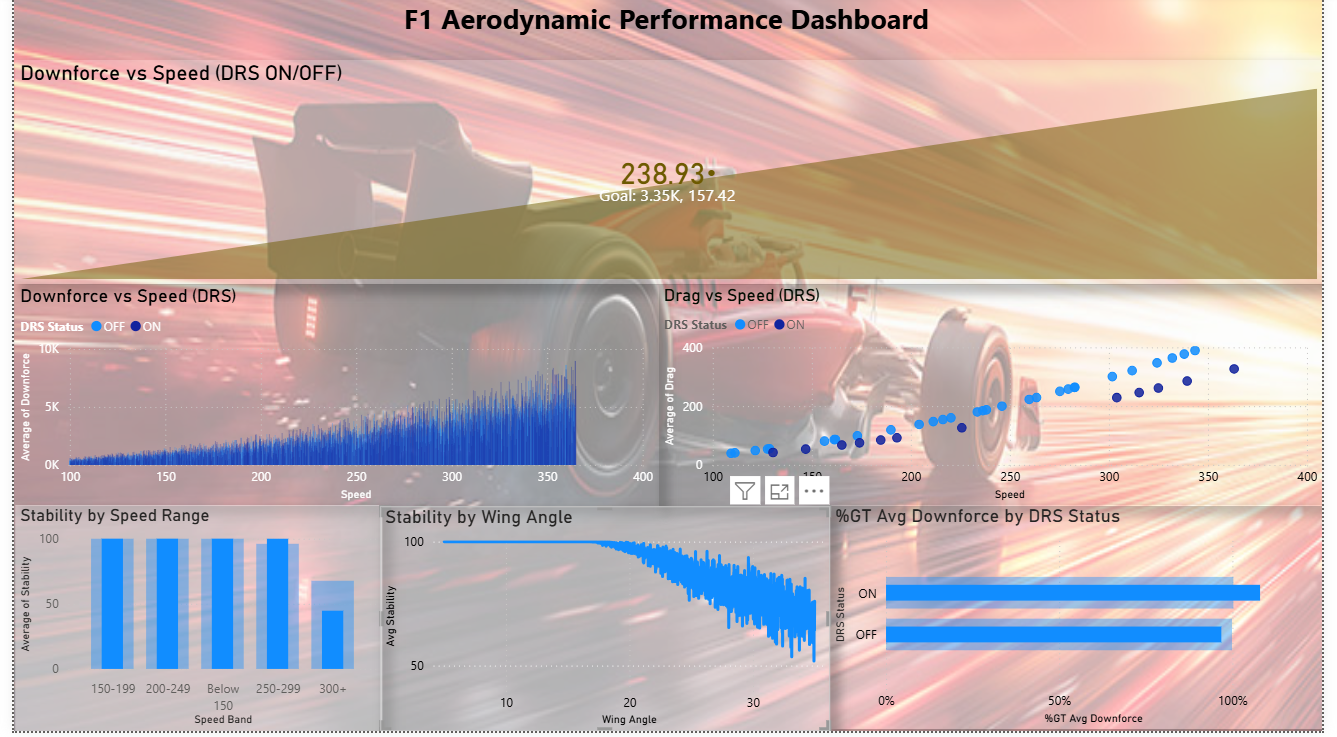

Layout of this report page (visuals, bound fields, positions):
{"tool":"powerbi","page":{"name":"Page 1","canvas":[1280,720],"ordinal":0},"visuals":[{"type":"kpi","title":"Downforce vs Speed (DRS ON/OFF)","fields":{"TrendLine":["actaruslab_f1_telemetry_2026.DRS Status"],"Indicator":["actaruslab_f1_telemetry_2026.Avg Speed"],"Goal":["actaruslab_f1_telemetry_2026.Avg Downforce","actaruslab_f1_telemetry_2026.Avg Drag"]},"box":[1.2,63.9,1278.8,219.6],"z":0},{"type":"clusteredColumnChart","title":"Downforce vs Speed (DRS)","fields":{"Category":["actaruslab_f1_telemetry_2026.Speed"],"Series":["actaruslab_f1_telemetry_2026.DRS Status"],"Y":["Avg(actaruslab_f1_telemetry_2026.Downforce)"]},"box":[1.2,283.5,629.8,216],"z":1000},{"type":"scatterChart","title":"Drag vs Speed (DRS)","fields":{"Series":["actaruslab_f1_telemetry_2026.DRS Status"],"X":["actaruslab_f1_telemetry_2026.Speed"],"Y":["Avg(actaruslab_f1_telemetry_2026.Drag)"]},"box":[631,283.5,649.1,216],"z":2000},{"type":"barChart","fields":{"Category":["actaruslab_f1_telemetry_2026.DRS Status"],"Y":["actaruslab_f1_telemetry_2026.Avg Downforce"]},"box":[798.7,499.5,481.4,219.6],"z":3000},{"type":"clusteredColumnChart","title":"Stability by Speed Range","fields":{"Y":["Avg(actaruslab_f1_telemetry_2026.Stability)"],"Category":["actaruslab_f1_telemetry_2026.Speed Band"]},"box":[1.2,498.9,359.5,221.3],"z":4000},{"type":"lineChart","title":"Stability by Wing Angle","fields":{"Category":["actaruslab_f1_telemetry_2026.Wing Angle"],"Y":["actaruslab_f1_telemetry_2026.Avg Stability"]},"box":[358.3,500.1,440.2,220.1],"z":5000},{"type":"textbox","box":[100.1,0,1076.1,63.9],"z":6000}]}

Visuals, with their boxes in screenshot pixels (x1, y1, x2, y2), scaled from the page's 1280x720 canvas onto the 1337x737 screenshot:
"Downforce vs Speed (DRS ON/OFF)" kpi: locate(1, 65, 1336, 290)
"Downforce vs Speed (DRS)" clusteredColumnChart: locate(1, 290, 659, 511)
"Drag vs Speed (DRS)" scatterChart: locate(659, 290, 1336, 511)
barChart - actaruslab_f1_telemetry_2026.DRS Status x actaruslab_f1_telemetry_2026.Avg Downforce: locate(834, 511, 1336, 736)
"Stability by Speed Range" clusteredColumnChart: locate(1, 511, 377, 736)
"Stability by Wing Angle" lineChart: locate(374, 512, 834, 736)
textbox: locate(105, 0, 1229, 65)
